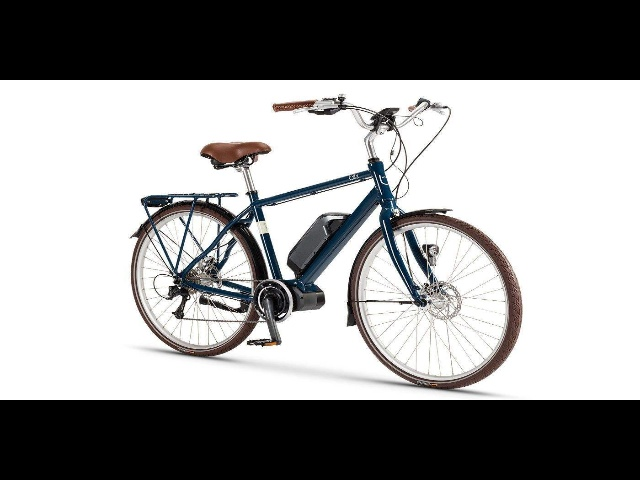bike: (117, 90, 529, 393)
